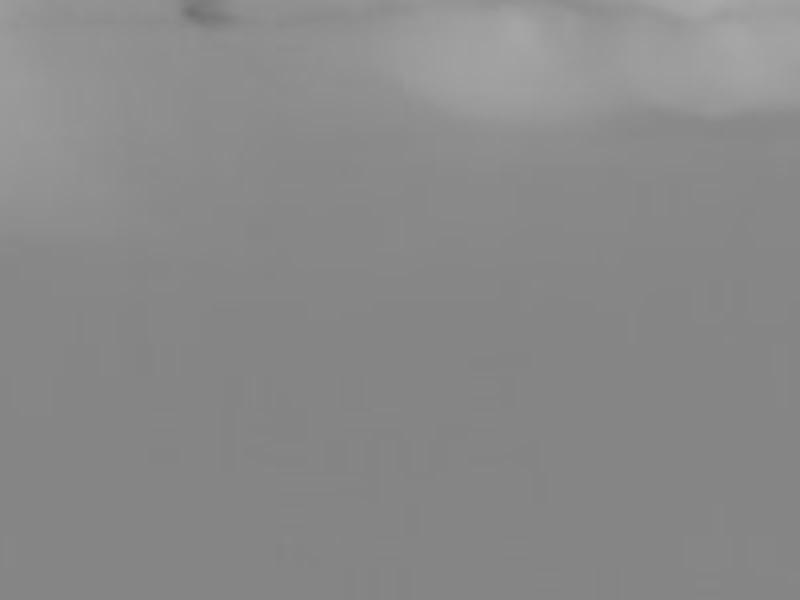defect: (182, 1, 229, 28)
